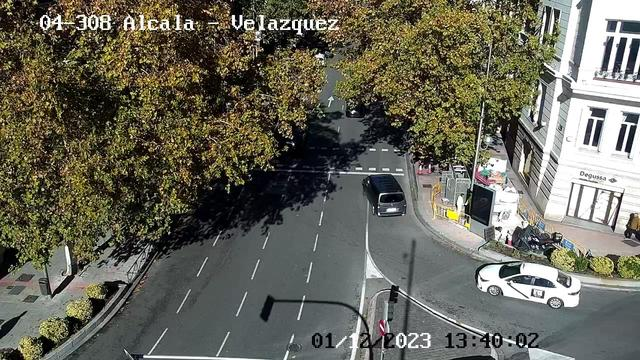car: (476, 262, 581, 309), (362, 174, 407, 217)
